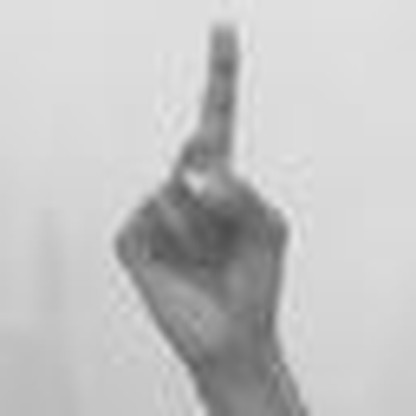d: (102, 12, 304, 367)
